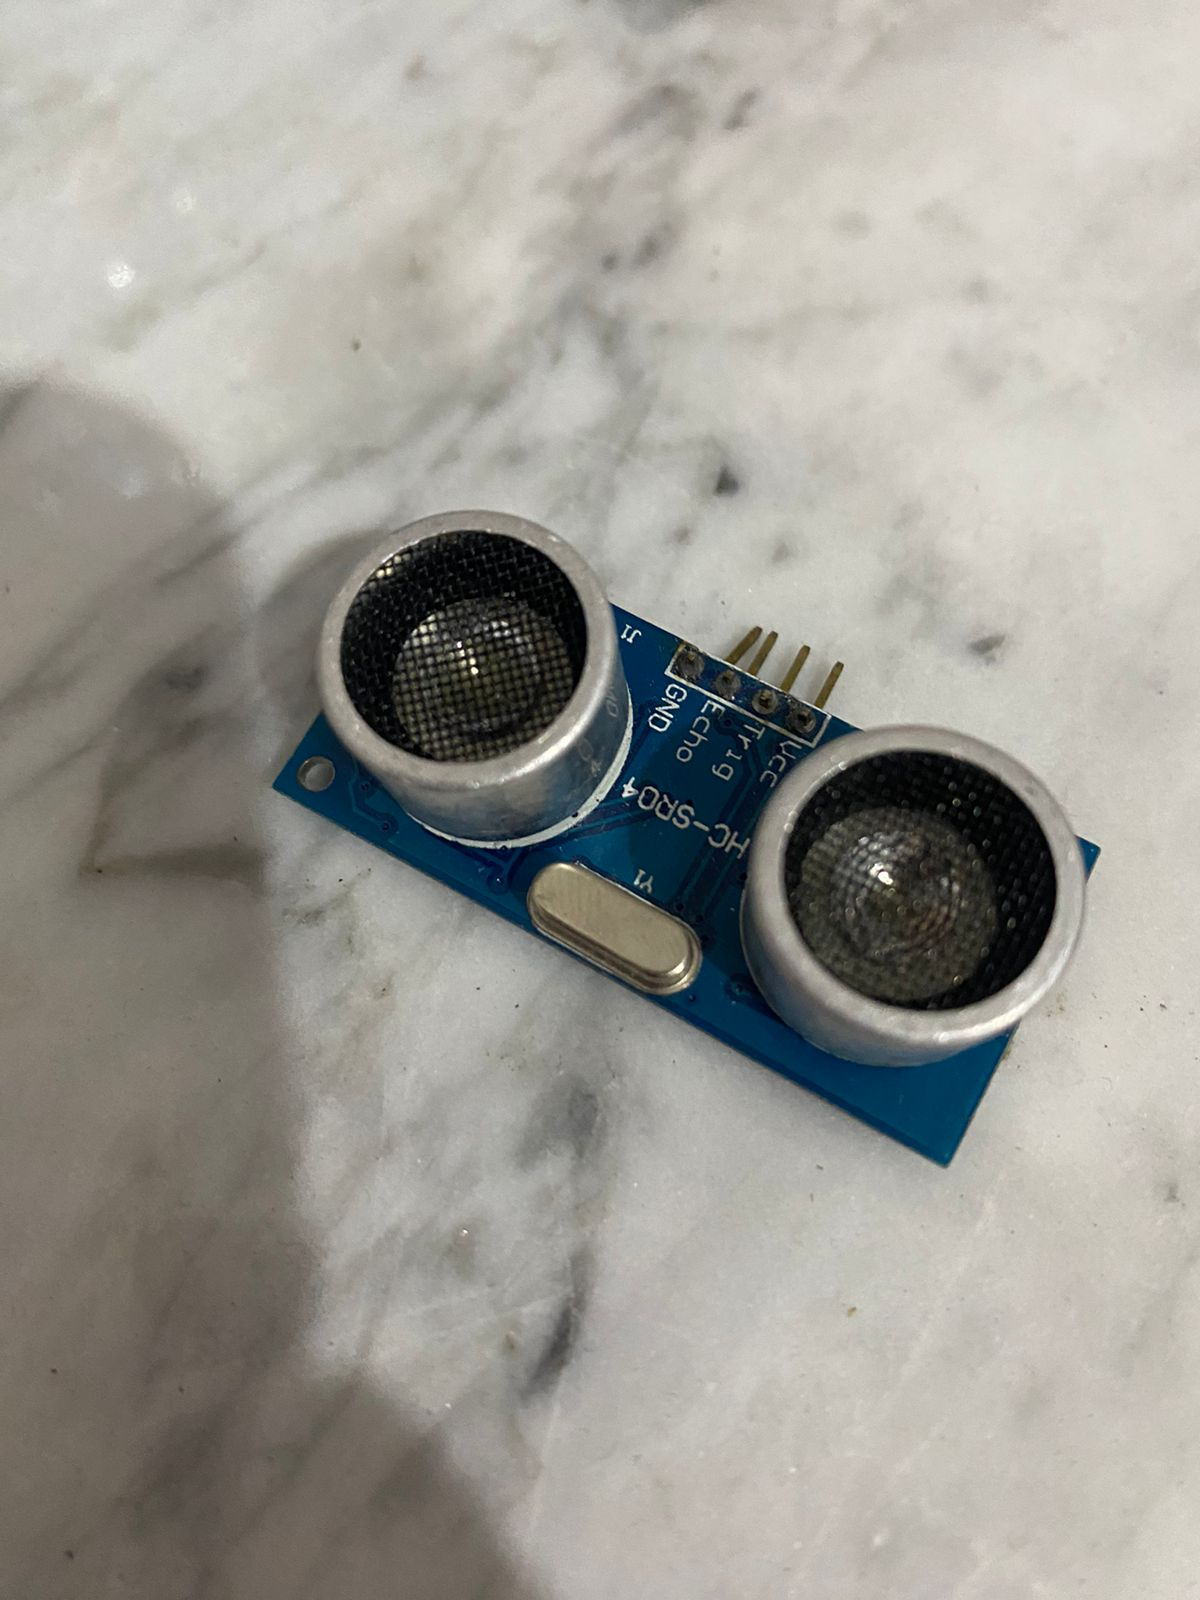capteur-ultrasonique: (266, 493, 1107, 1179)
